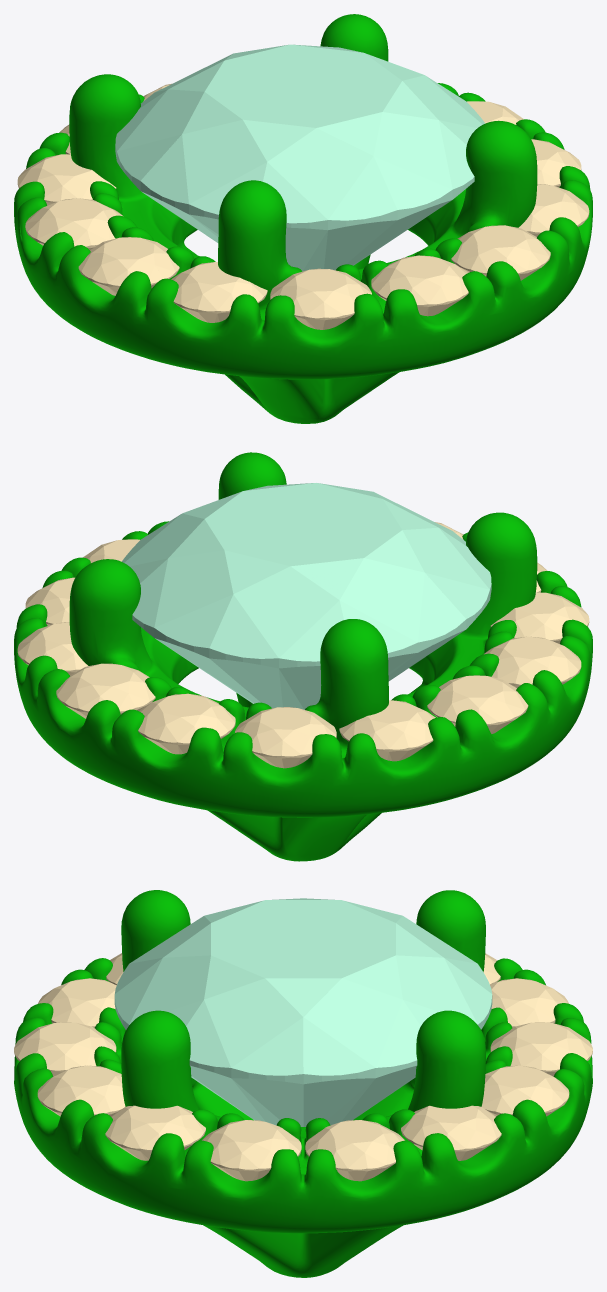
3 views of the same model, one above another, from view 1: azimuth 30°, elevation 25°; view 2: azimuth 150°, elevation 25°; view 3: azimuth 270°, elevation 25° (orthographic).
Visible parts, largest first — view 1: Metal01, CS_Diamond, Diamond_Round.010, Diamond_Round.011, Diamond_Round.008, Diamond_Round.012, Diamond_Round.009, Diamond_Round.007, Diamond_Round.006, Diamond_Round.013, Diamond_Round, Diamond_Round.001; view 2: Metal01, CS_Diamond, Diamond_Round.005, Diamond_Round.004, Diamond_Round.007, Diamond_Round.003, Diamond_Round.006, Diamond_Round.008, Diamond_Round.009, Diamond_Round.002, Diamond_Round.001, Diamond_Round; view 3: Metal01, CS_Diamond, Diamond_Round.001, Diamond_Round, Diamond_Round.013, Diamond_Round.002, Diamond_Round.011, Diamond_Round.004, Diamond_Round.003, Diamond_Round.012, Diamond_Round.005, Diamond_Round.010.
Boxes of the visible parts, <box> form: Metal01: <box>14,14,592,423</box>; CS_Diamond: <box>115,44,484,271</box>; Diamond_Round.010: <box>270,268,371,329</box>; Diamond_Round.011: <box>371,255,468,316</box>; Diamond_Round.008: <box>78,237,179,295</box>; Diamond_Round.012: <box>451,225,550,280</box>; Diamond_Round.009: <box>171,262,267,322</box>; Diamond_Round.007: <box>25,198,123,249</box>; Diamond_Round.006: <box>17,154,116,205</box>; Diamond_Round.013: <box>518,184,589,236</box>; Diamond_Round: <box>531,139,581,187</box>; Diamond_Round.001: <box>467,101,523,124</box>; Metal01: <box>14,452,592,861</box>; CS_Diamond: <box>121,483,491,709</box>; Diamond_Round.005: <box>235,707,336,768</box>; Diamond_Round.004: <box>138,693,235,754</box>; Diamond_Round.007: <box>427,675,528,733</box>; Diamond_Round.003: <box>56,663,155,718</box>; Diamond_Round.006: <box>339,700,435,761</box>; Diamond_Round.008: <box>484,636,581,688</box>; Diamond_Round.009: <box>490,592,589,643</box>; Diamond_Round.002: <box>17,622,88,675</box>; Diamond_Round.001: <box>25,577,74,625</box>; Diamond_Round: <box>83,539,139,562</box>; Metal01: <box>14,890,592,1277</box>; CS_Diamond: <box>114,898,492,1126</box>; Diamond_Round.001: <box>305,1120,404,1181</box>; Diamond_Round: <box>202,1120,301,1181</box>; Diamond_Round.013: <box>105,1105,205,1160</box>; Diamond_Round.002: <box>401,1105,501,1160</box>; Diamond_Round.011: <box>14,1022,116,1076</box>; Diamond_Round.004: <box>490,1022,592,1076</box>; Diamond_Round.003: <box>481,1065,569,1116</box>; Diamond_Round.012: <box>37,1065,125,1116</box>; Diamond_Round.005: <box>490,978,568,1027</box>; Diamond_Round.010: <box>38,978,116,1027</box>.
Size of the model in its own units: 9.06 by 5.65 by 9.05.
